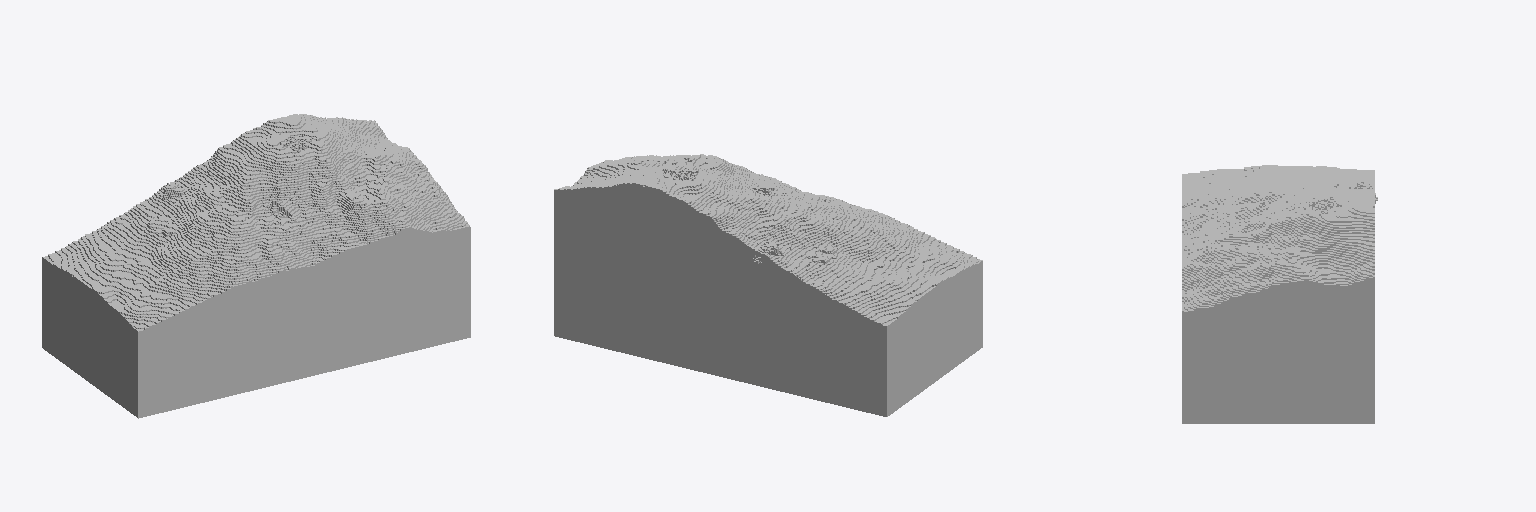
Rendered from Sunkeny City -  Voxel Desert-2-tile 3.obj.
3 renders of one model, left to right at view 1: azimuth 30°, elevation 25°; view 2: azimuth 150°, elevation 25°; view 3: azimuth 270°, elevation 25°, orthographic.
Visible parts, largest first — view 1: tile 3; view 2: tile 3; view 3: tile 3.
Boxes of the visible parts, x1,y1,x2,y2 form: tile 3: [42, 114, 470, 418]; tile 3: [554, 154, 982, 416]; tile 3: [1182, 165, 1377, 423].
Size of the model in its own units: 25.6 by 12.7 by 13.